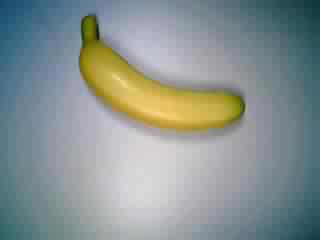banana: (75, 12, 251, 138)
